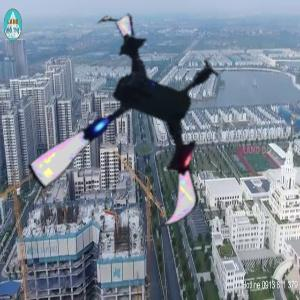drone: (26, 19, 251, 244)
